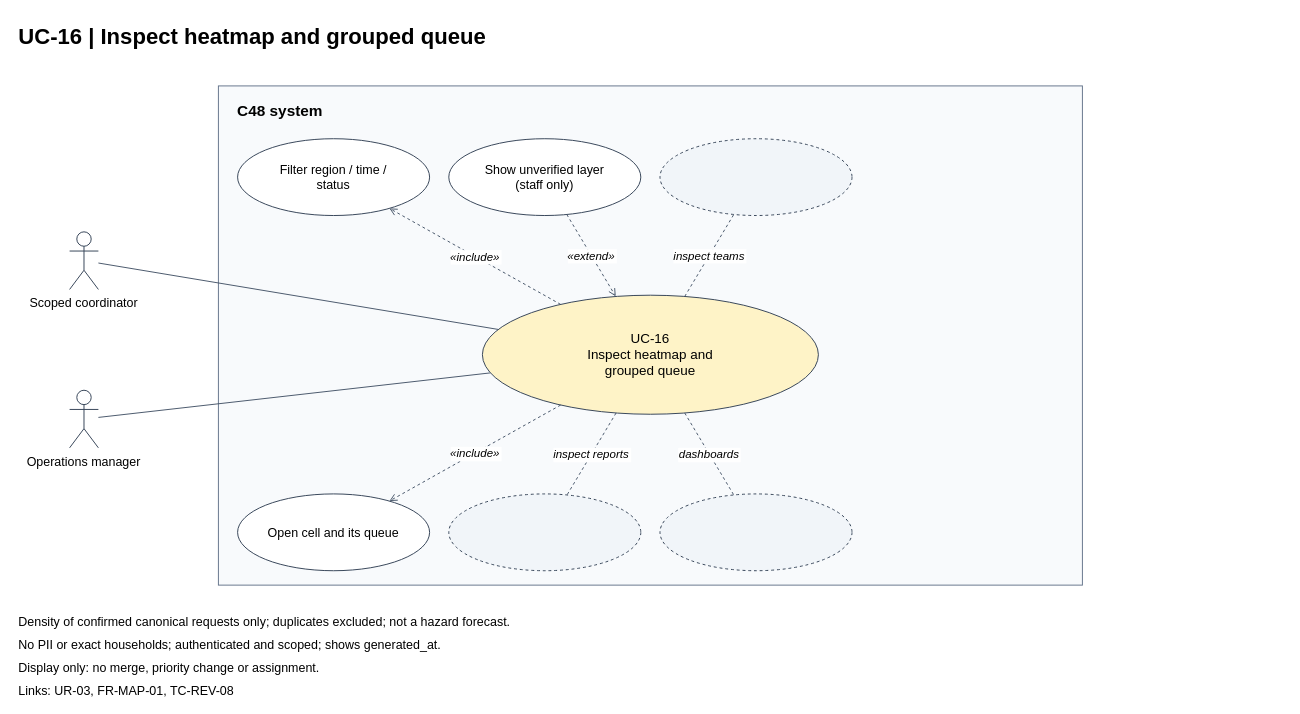
This 1300x714 diagram has some shape labels left out. The shapes that lost their labels are listed below. From the top down, each one's centre as x and y in pixels, then its label:
At (x=755, y=177): "UC-03 Assign and accept mission".
At (x=544, y=532): "UC-02 Verify and triage".
At (x=755, y=532): "UC-05 Dashboard and reports".
